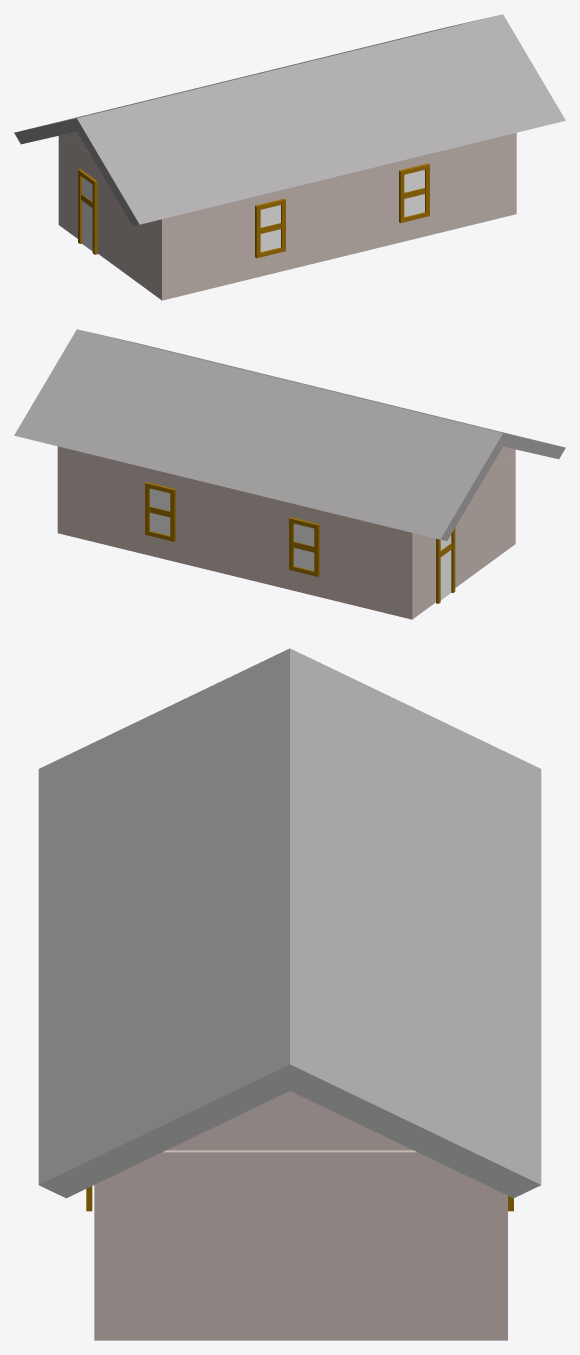
The model's file is Large_Building.glb.
The picture shows the model from 3 angles, top to bottom: view 1: azimuth 30°, elevation 25°; view 2: azimuth 150°, elevation 25°; view 3: azimuth 270°, elevation 25°; orthographic projection. The views are drawn at different scales.
Visible parts, largest first — view 1: mergedBlocks; view 2: mergedBlocks; view 3: mergedBlocks.
Boxes of the visible parts, <box> form: mergedBlocks: <box>14,14,565,300</box>; mergedBlocks: <box>14,329,565,619</box>; mergedBlocks: <box>38,648,541,1340</box>.
Bounding box in the file's own units: 4.74 × 1.65 × 2.42.
